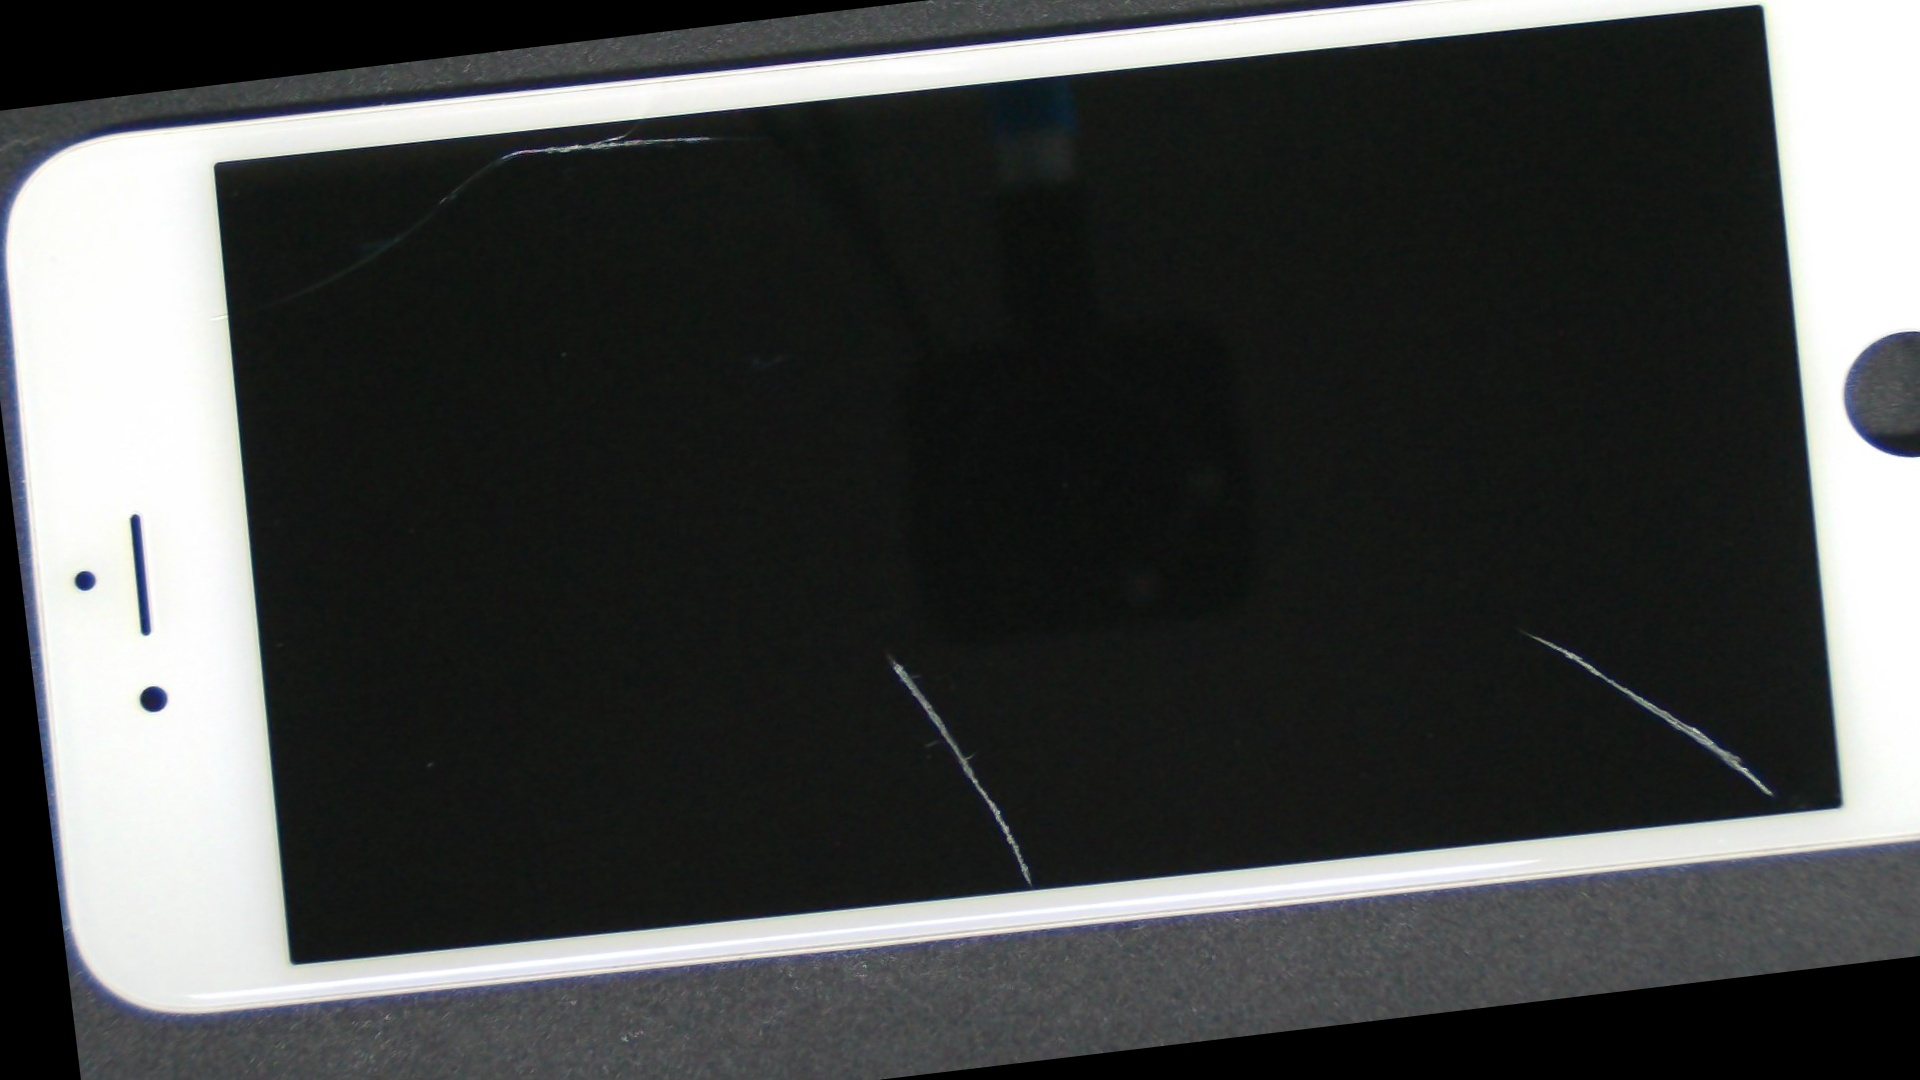oil: (742, 215, 1920, 1062), (429, 284, 1349, 1026), (298, 45, 957, 216)
